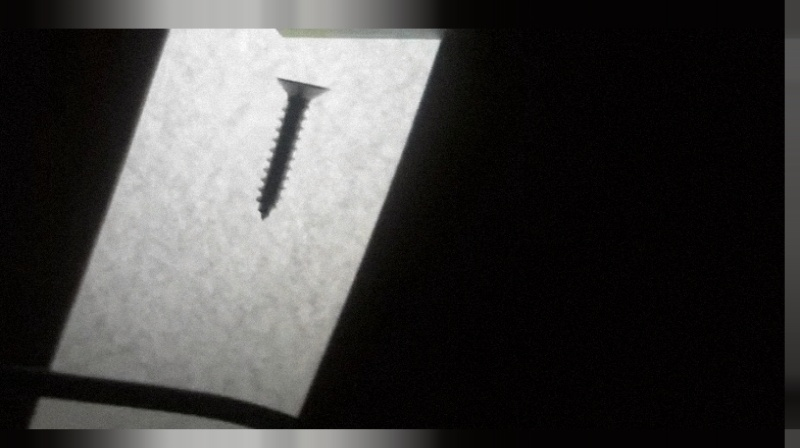S001: (251, 73, 333, 222)
